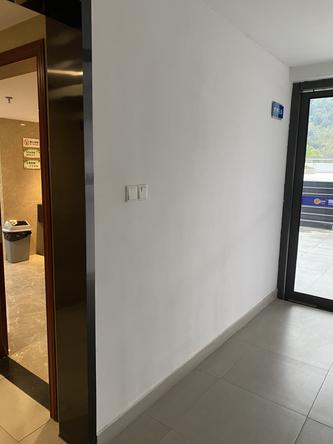switch: (139, 185, 148, 201), (128, 187, 137, 201)
